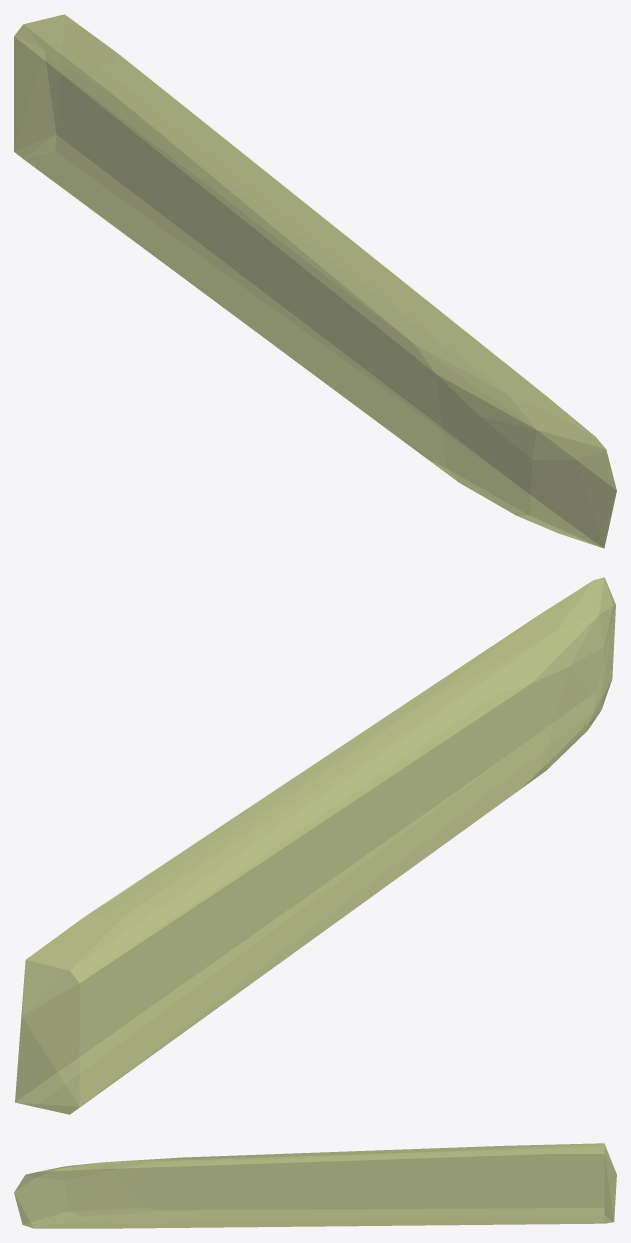
3 renders of one model, top to bottom at view 1: azimuth 30°, elevation 25°; view 2: azimuth 150°, elevation 25°; view 3: azimuth 270°, elevation 25°, orthographic. The views are drawn at different scales.
Visible parts, largest first — view 1: Shape_IndexedFaceSet.002_Shape_IndexedFaceSet.3163; view 2: Shape_IndexedFaceSet.002_Shape_IndexedFaceSet.3163; view 3: Shape_IndexedFaceSet.002_Shape_IndexedFaceSet.3163.
Boxes of the visible parts, x1,y1,x2,y2 form: Shape_IndexedFaceSet.002_Shape_IndexedFaceSet.3163: (14,14,616,548); Shape_IndexedFaceSet.002_Shape_IndexedFaceSet.3163: (15,577,615,1114); Shape_IndexedFaceSet.002_Shape_IndexedFaceSet.3163: (14,1143,616,1228).
Size of the model in its own units: 0.0519 by 0.1346 by 0.9858.
